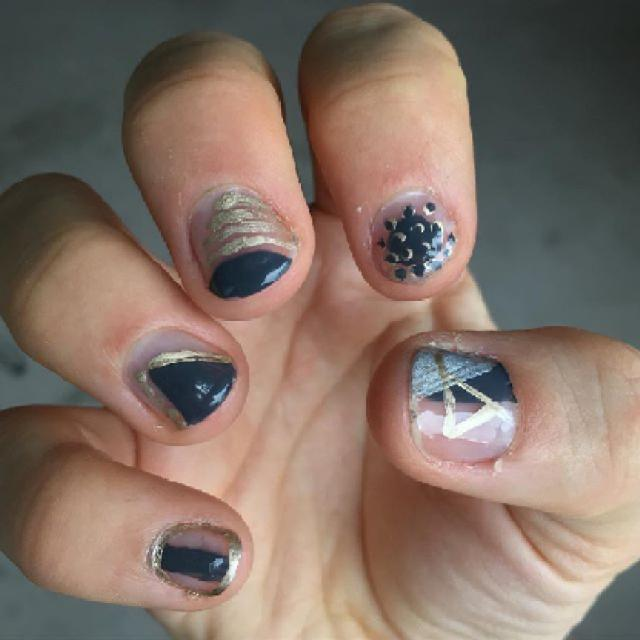Nail: (189, 184, 300, 299), (410, 349, 518, 461), (129, 329, 239, 429), (369, 189, 458, 282), (150, 522, 239, 594)
